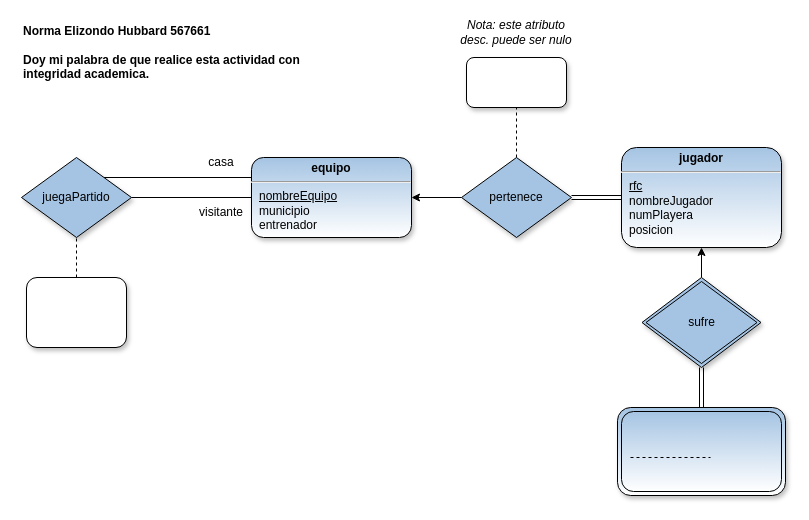
This 809x520 diagram has some shape labels left out. Here are the shapes that lost their labels. From the top down, the centre of each, then its label:
(x=517, y=83): capitanEquipo
(x=77, y=313): fechaPartido golesCasa golesVisitante resultadoPartido()
(x=701, y=451): lesion fecha descripcionLesion
